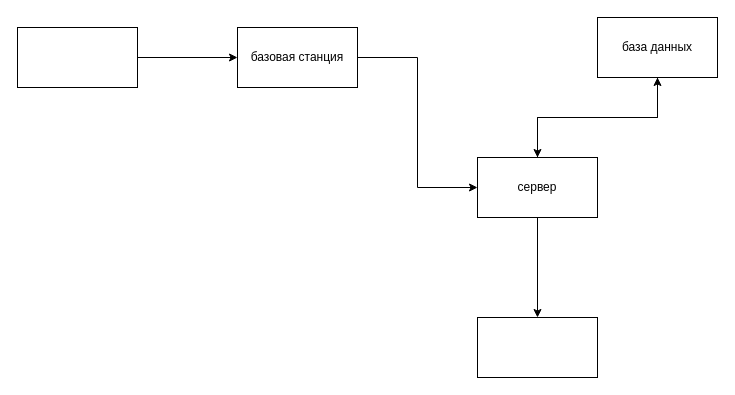
This 735x395 diagram has some shape labels left out. The shapes that lost their labels are listed below. From the top down, each one's centre as x and y in pixels, then its label:
At point 77,57: "счетчик".
At point 537,347: "веб приложение".
